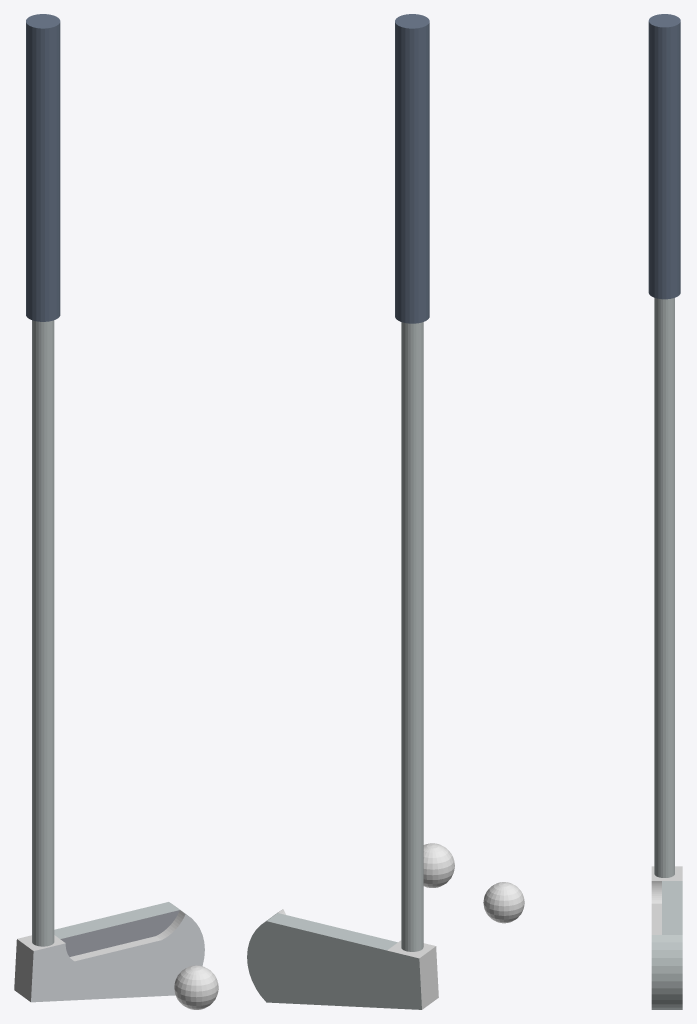
3 renders of one model, left to right at view 1: azimuth 30°, elevation 25°; view 2: azimuth 150°, elevation 25°; view 3: azimuth 270°, elevation 25°, orthographic. The views are drawn at different scales.
Parts seen in each view (by area): view 1: imagetostl_mesh14, imagetostl_mesh55, imagetostl_mesh56, imagetostl_mesh57, imagetostl_mesh15, imagetostl_mesh58, imagetostl_mesh54, imagetostl_mesh59, imagetostl_mesh75, imagetostl_mesh76, imagetostl_mesh78, imagetostl_mesh79 (+14 smaller); view 2: imagetostl_mesh0, imagetostl_mesh48, imagetostl_mesh49, imagetostl_mesh47, imagetostl_mesh50, imagetostl_mesh46, imagetostl_mesh45, imagetostl_mesh93, imagetostl_mesh94, imagetostl_mesh92, imagetostl_mesh71, imagetostl_mesh91 (+13 smaller); view 3: imagetostl_mesh62, imagetostl_mesh63, imagetostl_mesh64, imagetostl_mesh65, imagetostl_mesh66, imagetostl_mesh61, imagetostl_mesh44, imagetostl_mesh85, imagetostl_mesh87, imagetostl_mesh83, imagetostl_mesh86, imagetostl_mesh84 (+11 smaller).
Boxes of the visible parts, x1,y1,x2,y2 form: imagetostl_mesh14: (31,914,204,1002); imagetostl_mesh55: (38,321,41,946); imagetostl_mesh56: (41,322,44,946); imagetostl_mesh57: (44,321,47,946); imagetostl_mesh15: (60,910,179,956); imagetostl_mesh58: (47,321,49,946); imagetostl_mesh54: (36,321,38,945); imagetostl_mesh59: (49,321,51,945); imagetostl_mesh75: (32,27,36,321); imagetostl_mesh76: (36,28,40,321); imagetostl_mesh78: (45,28,49,321); imagetostl_mesh79: (49,27,53,321); imagetostl_mesh0: (247,921,421,1009); imagetostl_mesh48: (410,323,413,951); imagetostl_mesh49: (413,323,416,951); imagetostl_mesh47: (408,323,410,951); imagetostl_mesh50: (416,323,418,951); imagetostl_mesh46: (405,323,407,951); imagetostl_mesh45: (403,322,405,950); imagetostl_mesh93: (409,28,414,323); imagetostl_mesh94: (414,28,418,323); imagetostl_mesh92: (405,28,409,323); imagetostl_mesh71: (418,27,422,322); imagetostl_mesh91: (401,27,405,322); imagetostl_mesh62: (658,299,660,877); imagetostl_mesh63: (660,299,662,877); imagetostl_mesh64: (663,299,665,877); imagetostl_mesh65: (666,299,668,877); imagetostl_mesh66: (668,299,670,877); imagetostl_mesh61: (656,298,658,876); imagetostl_mesh44: (672,298,674,875); imagetostl_mesh85: (662,27,666,299); imagetostl_mesh87: (670,26,674,298); imagetostl_mesh83: (654,26,658,298); imagetostl_mesh86: (666,27,670,299); imagetostl_mesh84: (658,27,662,299).
Bounding box in the file's own units: 709 × 3898 × 758.
